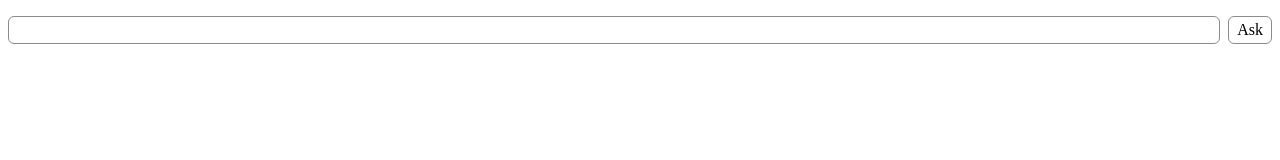
AssistantBox citing, framing once and going back (spec assistant §4) › falls back to the id for a label that is empty
Type "q" into the field at (614, 30), box [8, 16, 1220, 44]
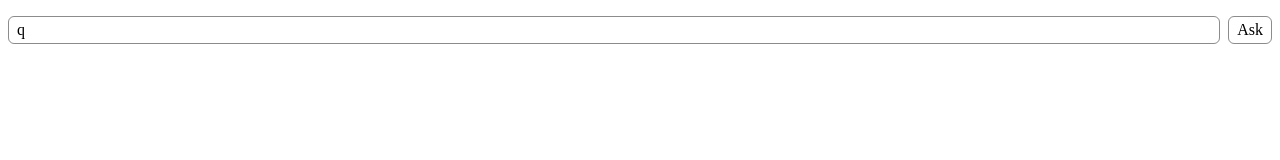
Submit the form, box [8, 16, 1272, 44]
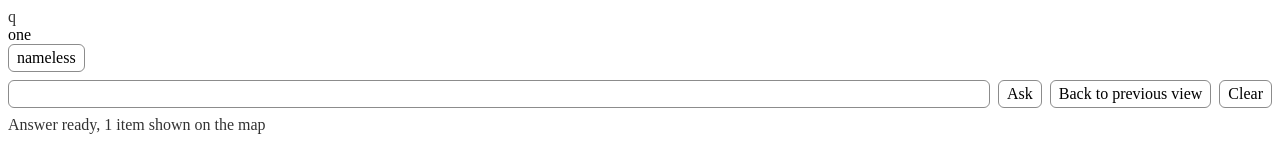
expect the button "nameless" is shown: met, box [8, 44, 85, 72]
